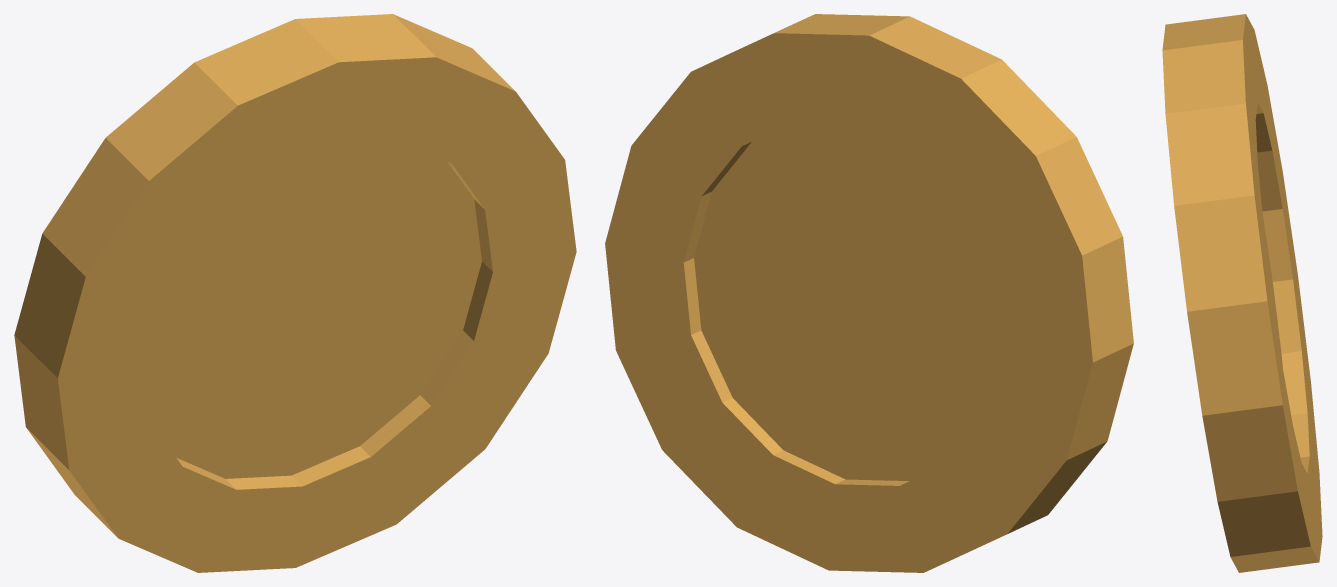
File: coin.glb
3 views of the same model, side by side, from view 1: azimuth 30°, elevation 25°; view 2: azimuth 150°, elevation 25°; view 3: azimuth 270°, elevation 25° (orthographic). The views are drawn at different scales.
Visible parts, largest first — view 1: bitcoin; view 2: bitcoin; view 3: bitcoin.
Part boxes in pixels (x1=…): bitcoin: x1=14, y1=14, x2=576, y2=572; bitcoin: x1=605, y1=14, x2=1133, y2=572; bitcoin: x1=1162, y1=14, x2=1322, y2=572.
Size of the model in its own units: 0.4935 by 0.4988 by 0.1427.
